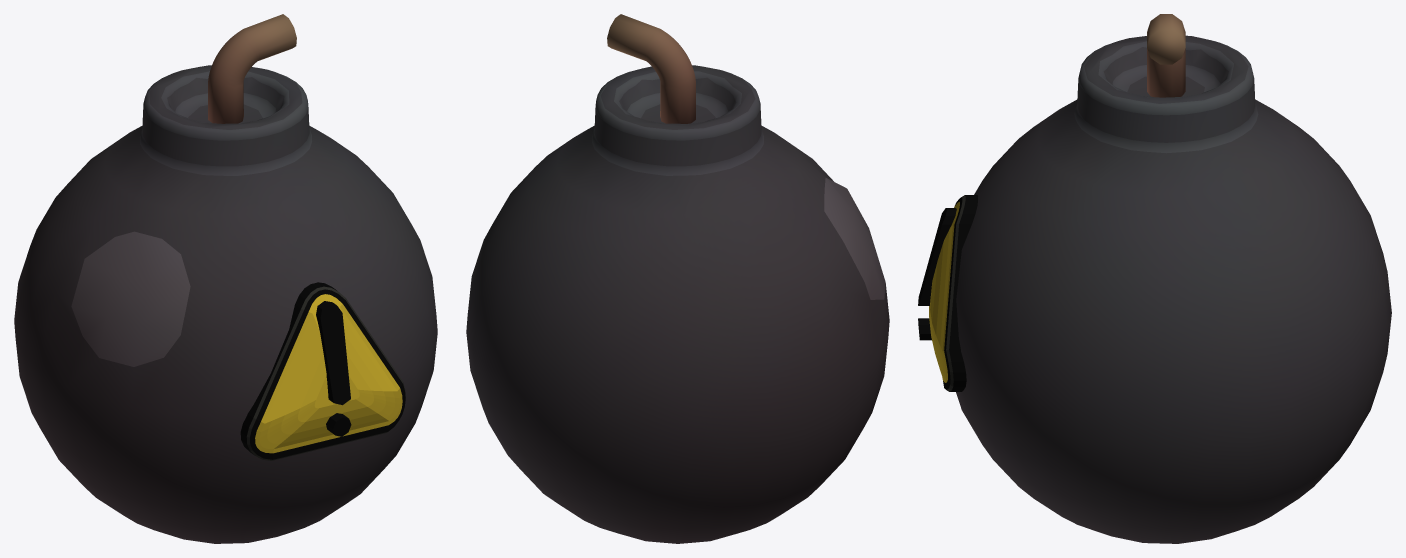
File: bomb.fbx
The picture shows the model from 3 angles, left to right: view 1: azimuth 30°, elevation 25°; view 2: azimuth 150°, elevation 25°; view 3: azimuth 270°, elevation 25°; orthographic projection. The views are drawn at different scales.
Visible parts, largest first — view 1: bomb; view 2: bomb; view 3: bomb.
Part boxes in pixels (<box>): bomb: <box>14,14,437,543</box>; bomb: <box>466,14,889,543</box>; bomb: <box>918,14,1391,543</box>.
Bounding box in the file's own units: 94.99 × 122 × 99.75.
